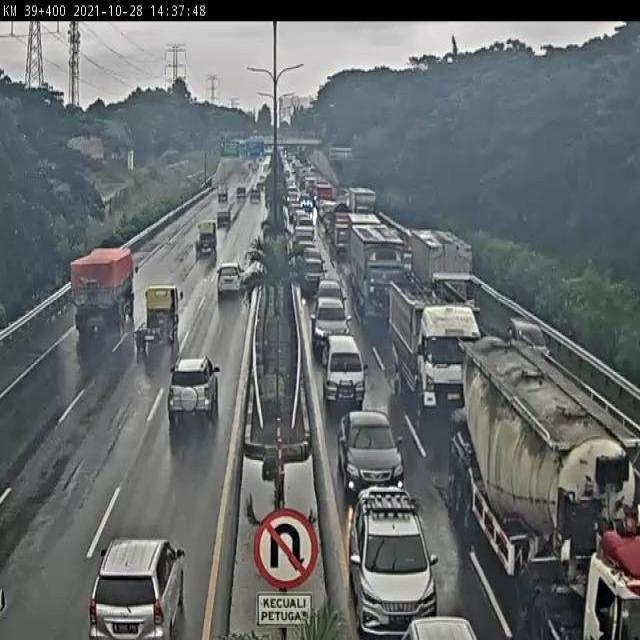car: (349, 490, 436, 630), (83, 532, 188, 640), (337, 408, 404, 493), (320, 335, 365, 408), (171, 360, 221, 421), (310, 295, 351, 364), (503, 318, 552, 374), (315, 279, 349, 325), (216, 263, 244, 303), (302, 260, 328, 293)
truck: (453, 337, 640, 640), (390, 283, 479, 417), (405, 227, 477, 323), (346, 220, 408, 323), (71, 246, 135, 330), (132, 286, 180, 354), (194, 224, 216, 260)
